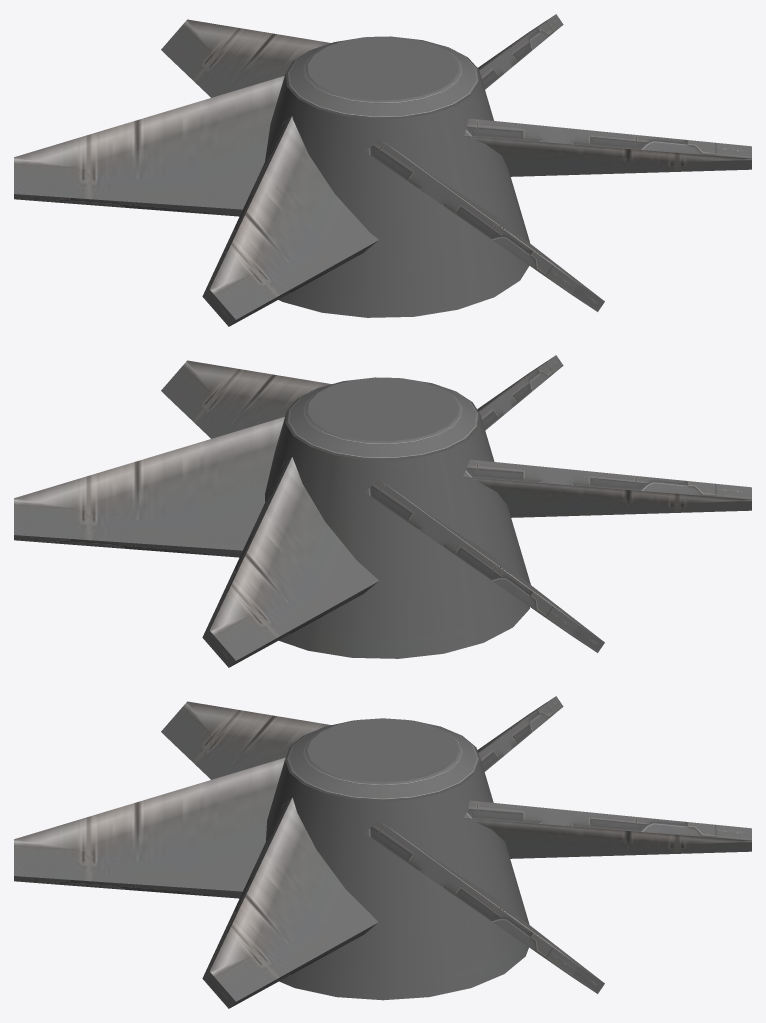
The model's file is Prop_Fan_Small_Propeller.gltf.
The picture shows the model from 3 angles, top to bottom: view 1: azimuth 30°, elevation 25°; view 2: azimuth 150°, elevation 25°; view 3: azimuth 270°, elevation 25°; orthographic projection.
Parts seen in each view (by area): view 1: Prop_Fan_Small_Propeller; view 2: Prop_Fan_Small_Propeller; view 3: Prop_Fan_Small_Propeller.
Boxes of the visible parts, x1,y1,x2,y2 form: Prop_Fan_Small_Propeller: (14, 14, 751, 326); Prop_Fan_Small_Propeller: (14, 355, 751, 667); Prop_Fan_Small_Propeller: (14, 696, 751, 1008).
Bounding box in the file's own units: 1.06 × 0.3203 × 1.15.
2 materials, 2 textured.
